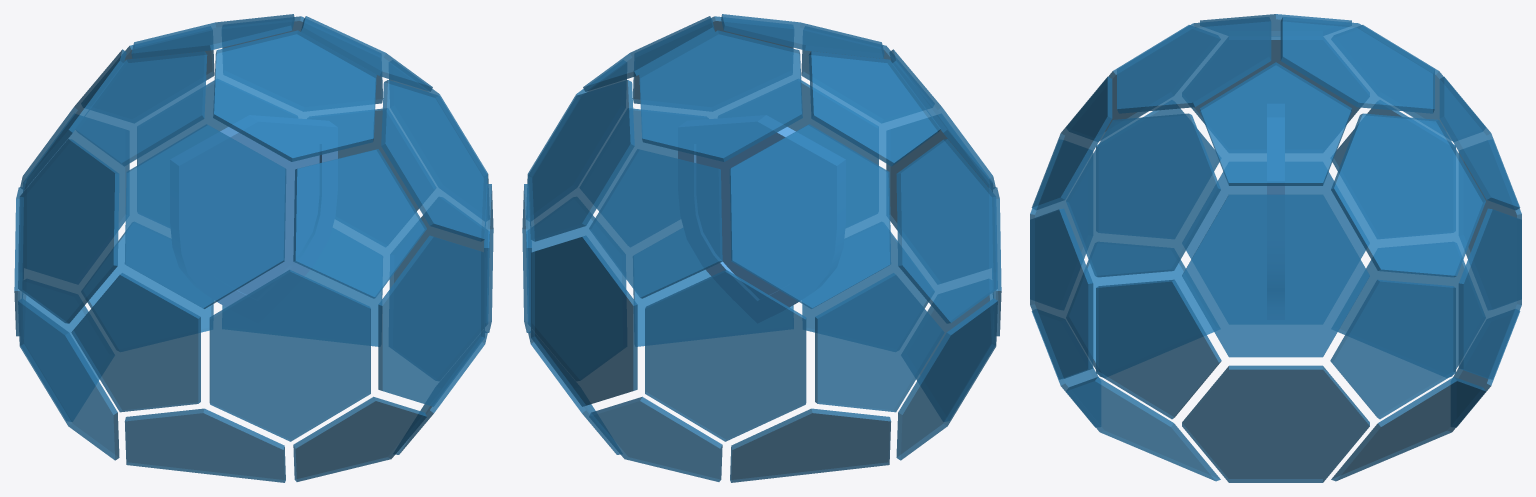
The model's file is shield_item.glb.
3 views of the same model, side by side, from view 1: azimuth 30°, elevation 25°; view 2: azimuth 150°, elevation 25°; view 3: azimuth 270°, elevation 25° (orthographic).
Visible parts, largest first — view 1: Shield, Shield.001; view 2: Shield, Shield.001; view 3: Shield, Shield.001.
Part boxes in pixels (left/top/right/bottom): Shield: left=14, top=14, right=493, bottom=482; Shield.001: left=170, top=115, right=337, bottom=322; Shield: left=522, top=14, right=1001, bottom=482; Shield.001: left=678, top=115, right=845, bottom=322; Shield: left=1030, top=14, right=1521, bottom=482; Shield.001: left=1267, top=104, right=1284, bottom=319.
Bounding box in the file's own units: 10.63 × 8.77 × 10.63.
